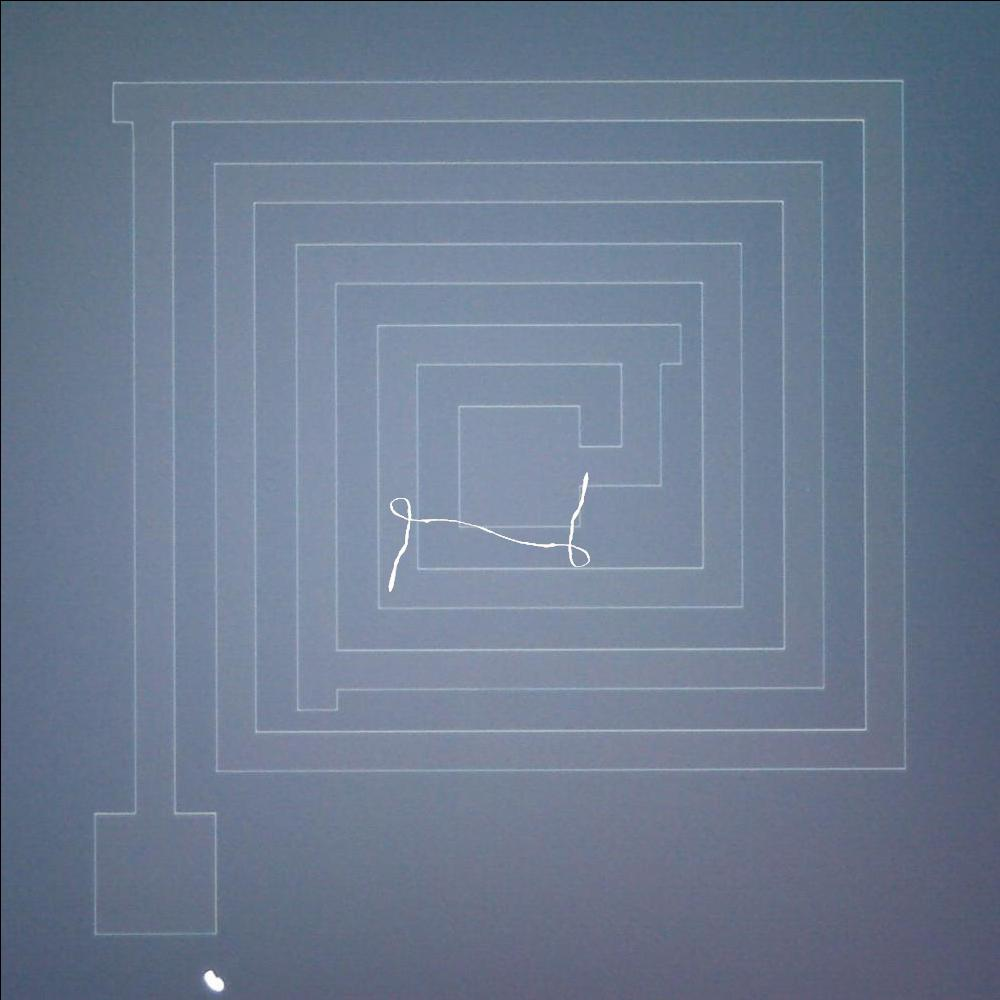budge circuit: (100, 72, 148, 142), (285, 671, 349, 720), (650, 312, 690, 378)
line: (372, 460, 604, 604)
spot: (196, 966, 226, 997)
